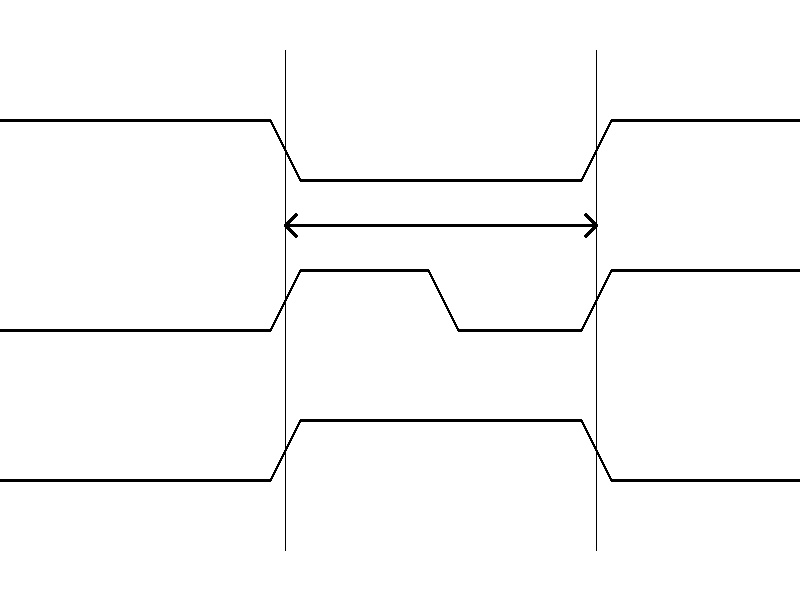double_arrow: (285, 210, 596, 240)
